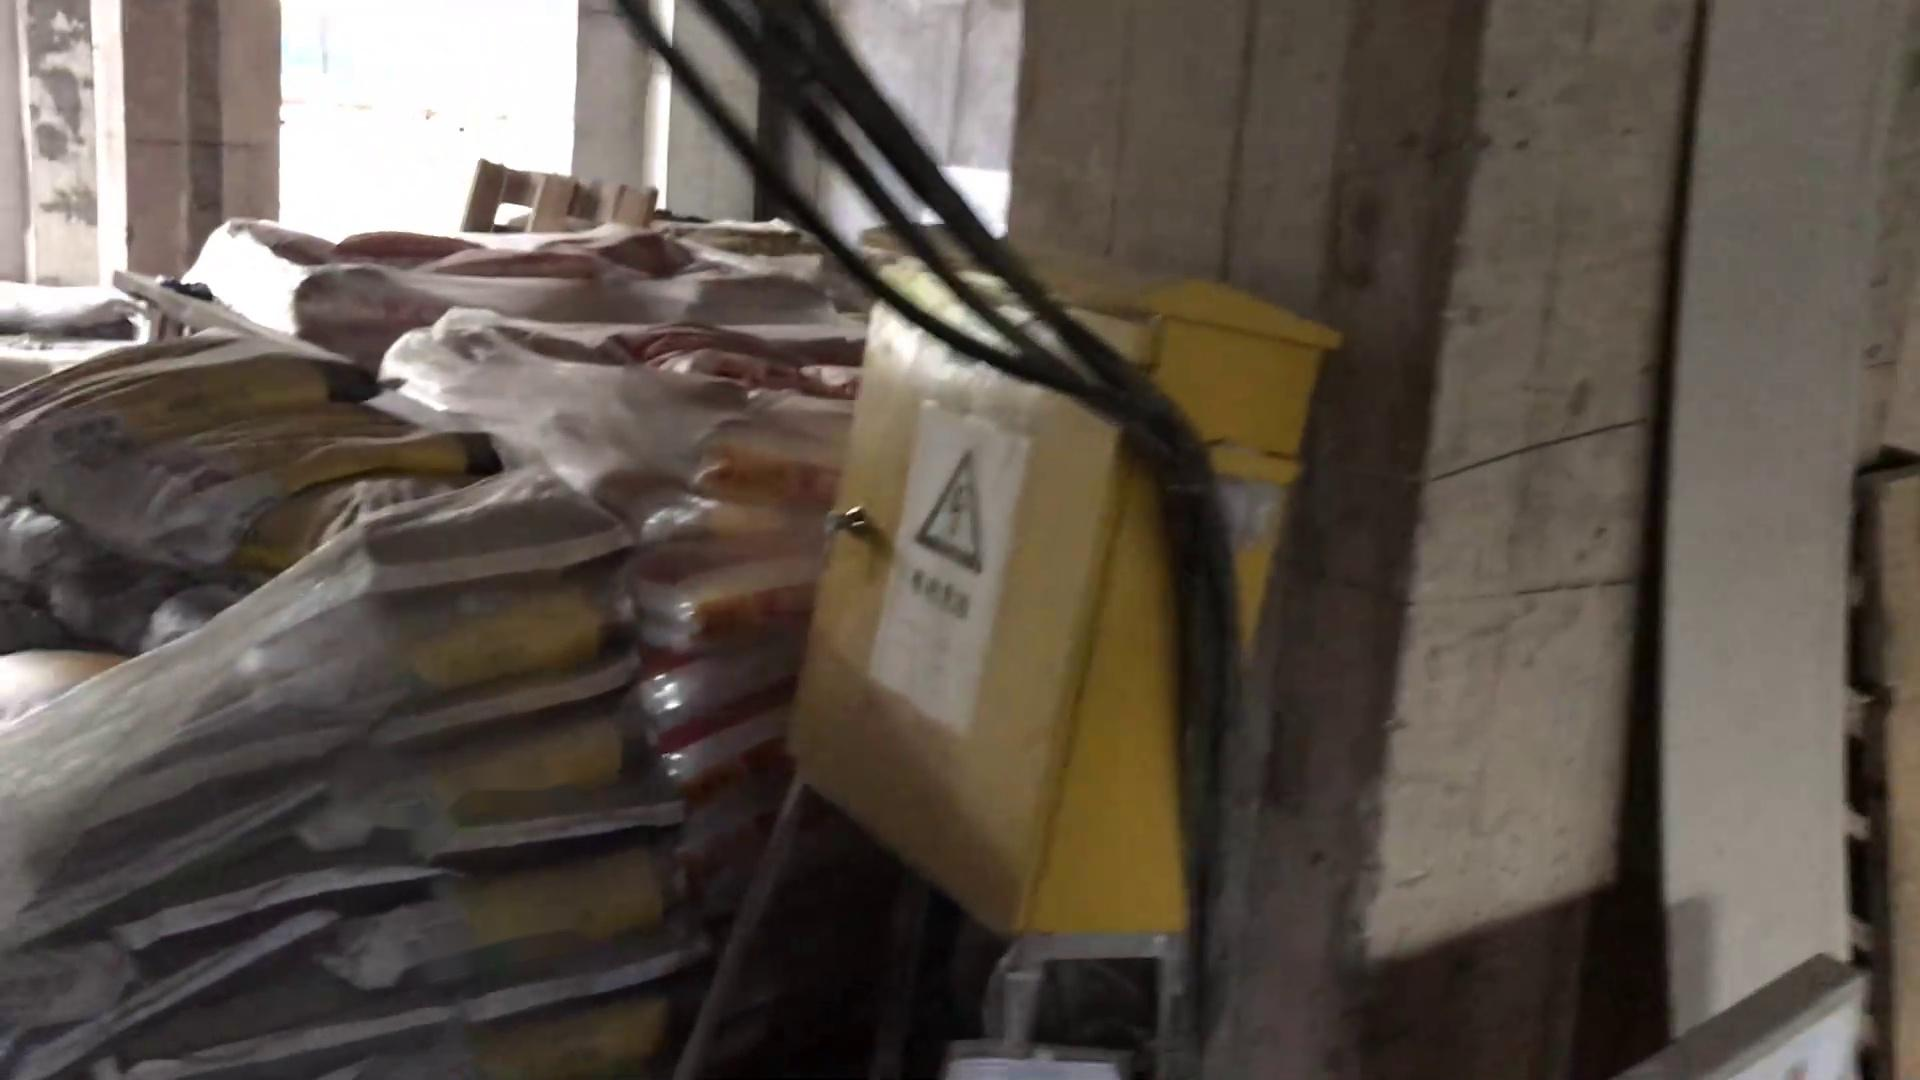ebox: (737, 175, 1349, 953)
